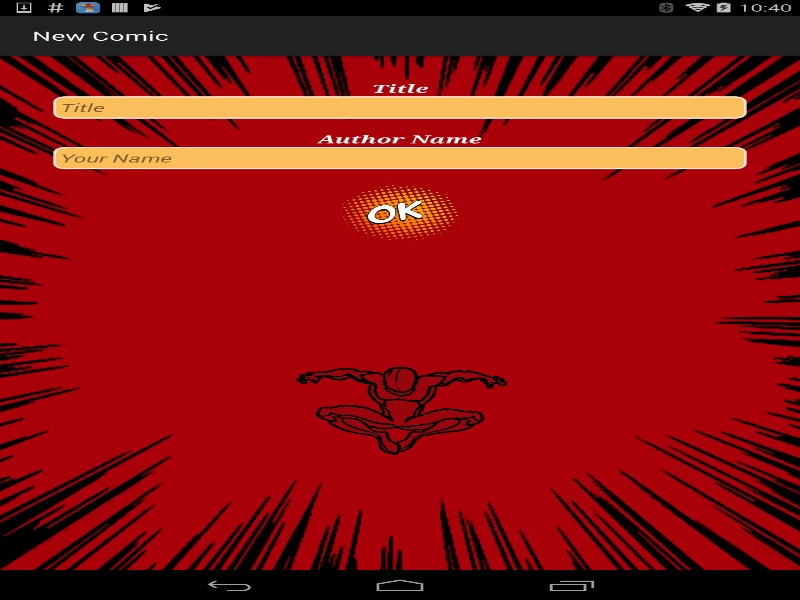Button: (333, 181, 466, 244)
Input: (53, 146, 746, 169), (53, 96, 746, 118)
